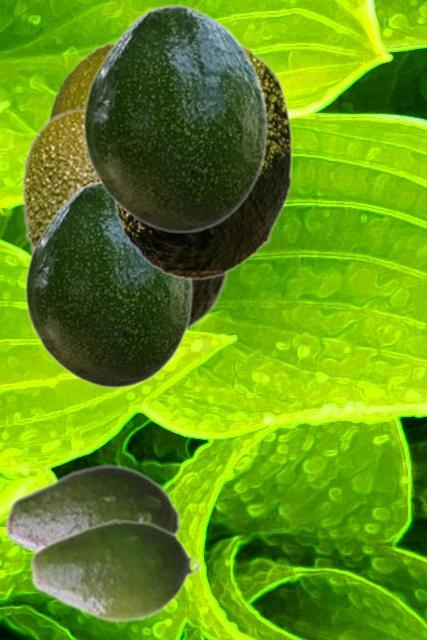avocado: (20, 107, 231, 334), (82, 4, 267, 233), (114, 41, 291, 280), (24, 180, 192, 388), (28, 517, 201, 623), (4, 463, 181, 554), (47, 42, 113, 117)
